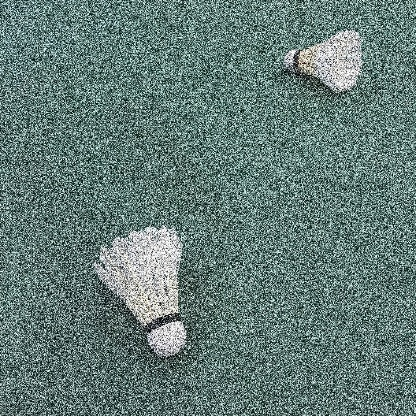ball_single: (92, 225, 187, 356), (283, 30, 363, 92)
